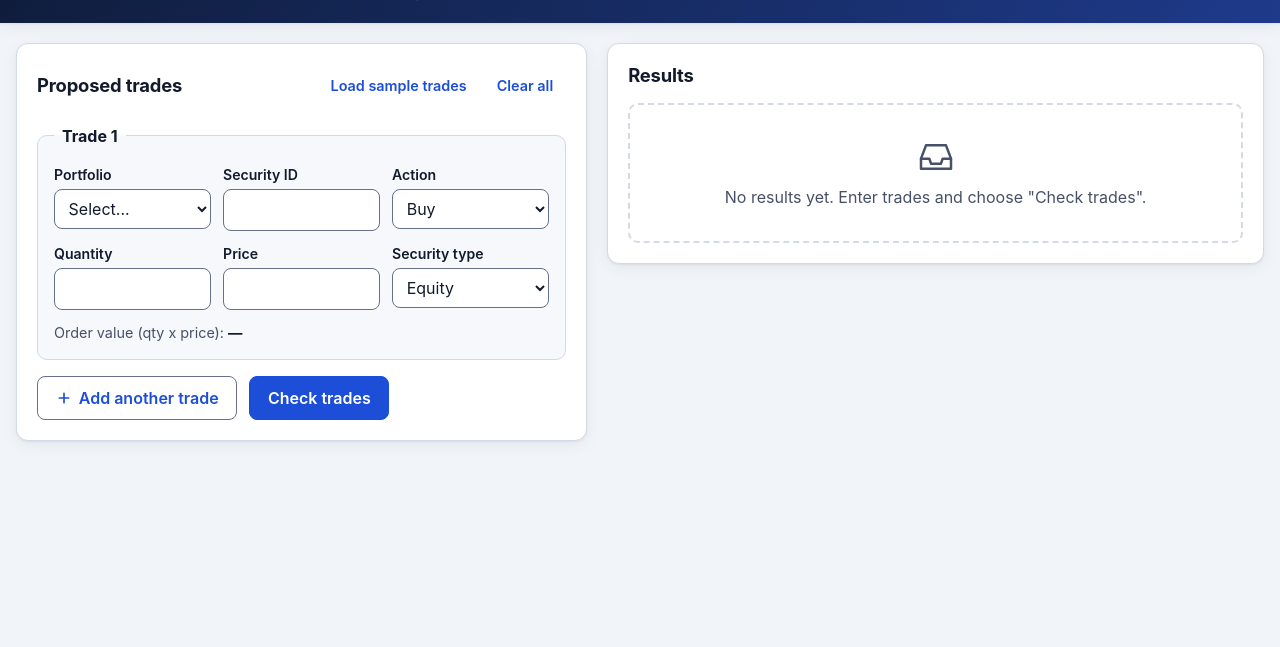
Test: summary tiles and filter chips › filterChip_showsOnlyMatchingDecision_keepingOriginalNumbers
The image size is (1280, 647).
Click the button "Load sample trades".
click(399, 86)  # box [318,64,480,108]
(page scrolled)
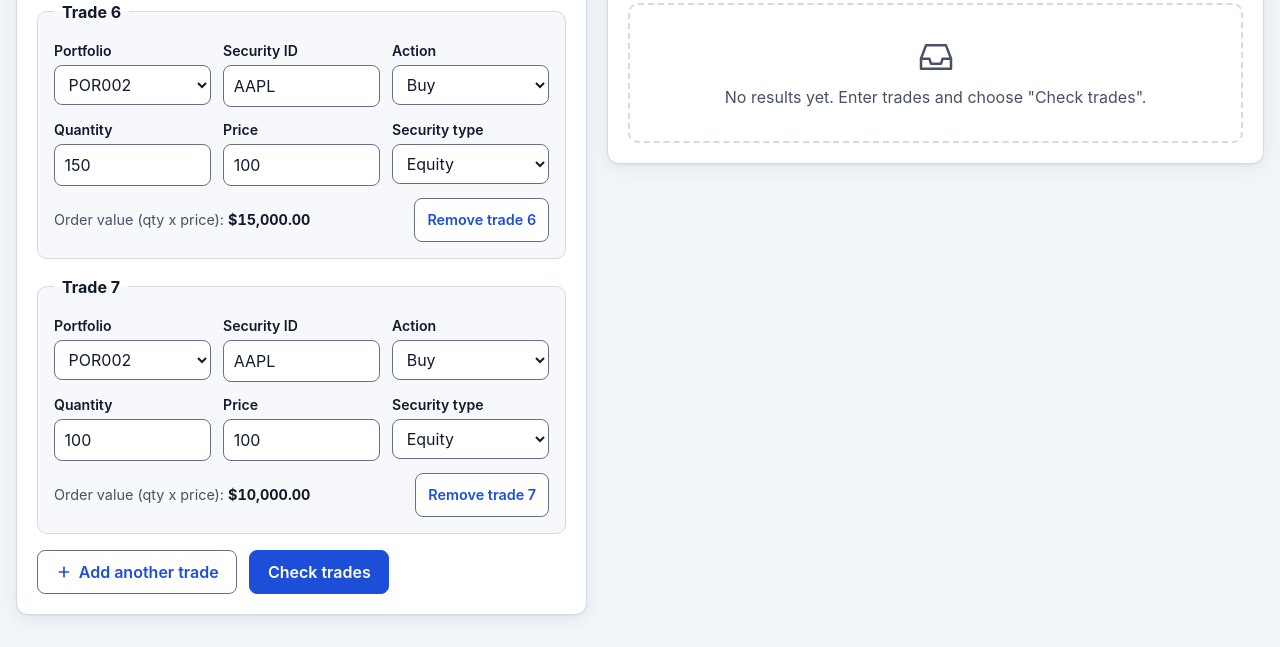
Click the button "Check trades".
click(319, 572)  # box [249,550,389,594]
(page scrolled)
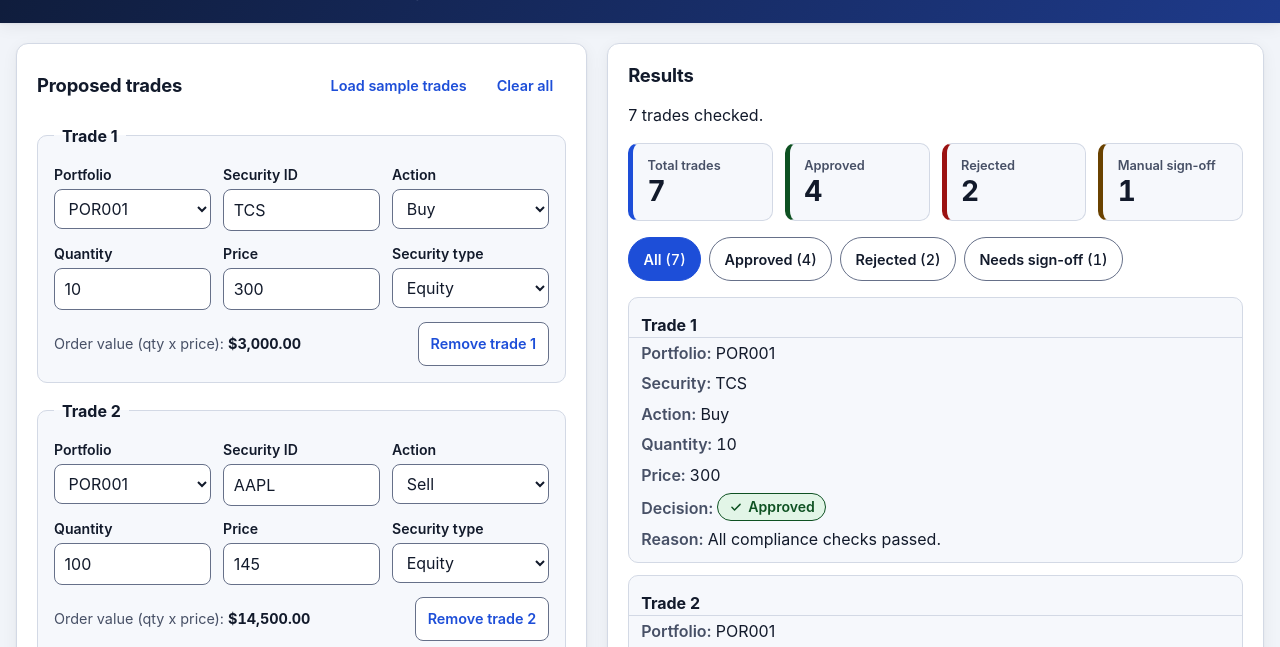
Click the button "Rejected (2)".
click(898, 259)  # box [840,237,956,281]
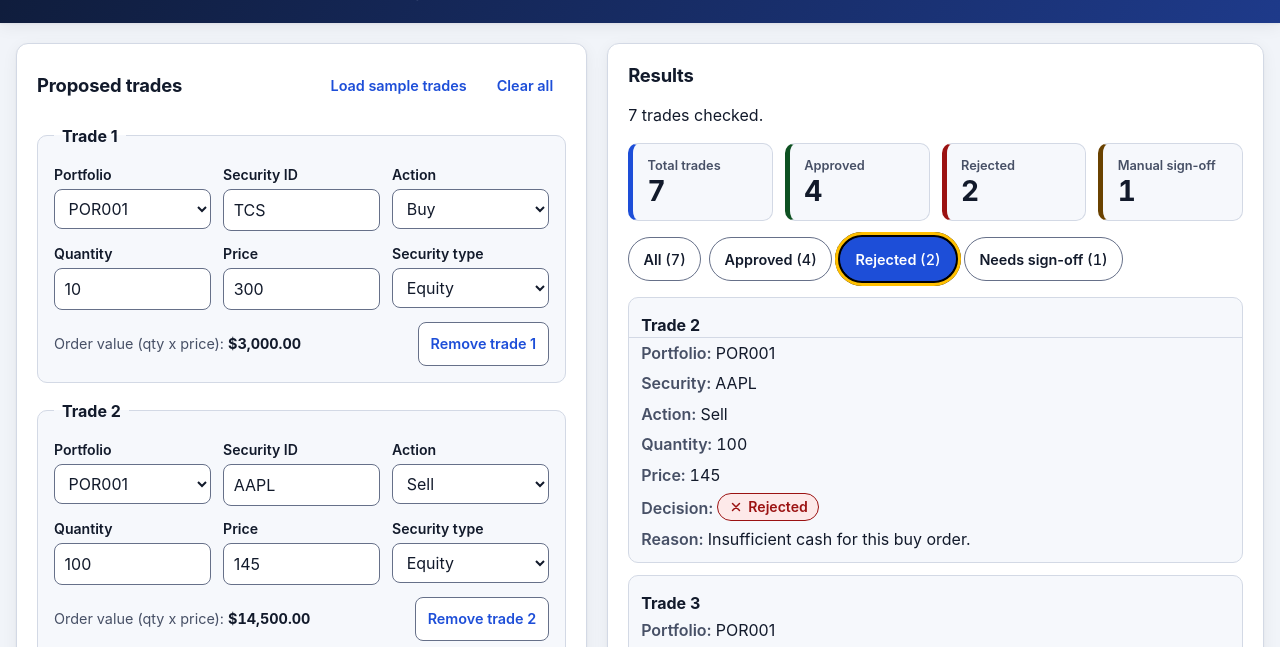
Expected: the column heading "2" is shown, [629,302,1242,338]
Expected: the column heading "3" is shown, [629,580,1242,615]
Click the button "All (7)".
click(665, 259)  # box [628,237,701,281]
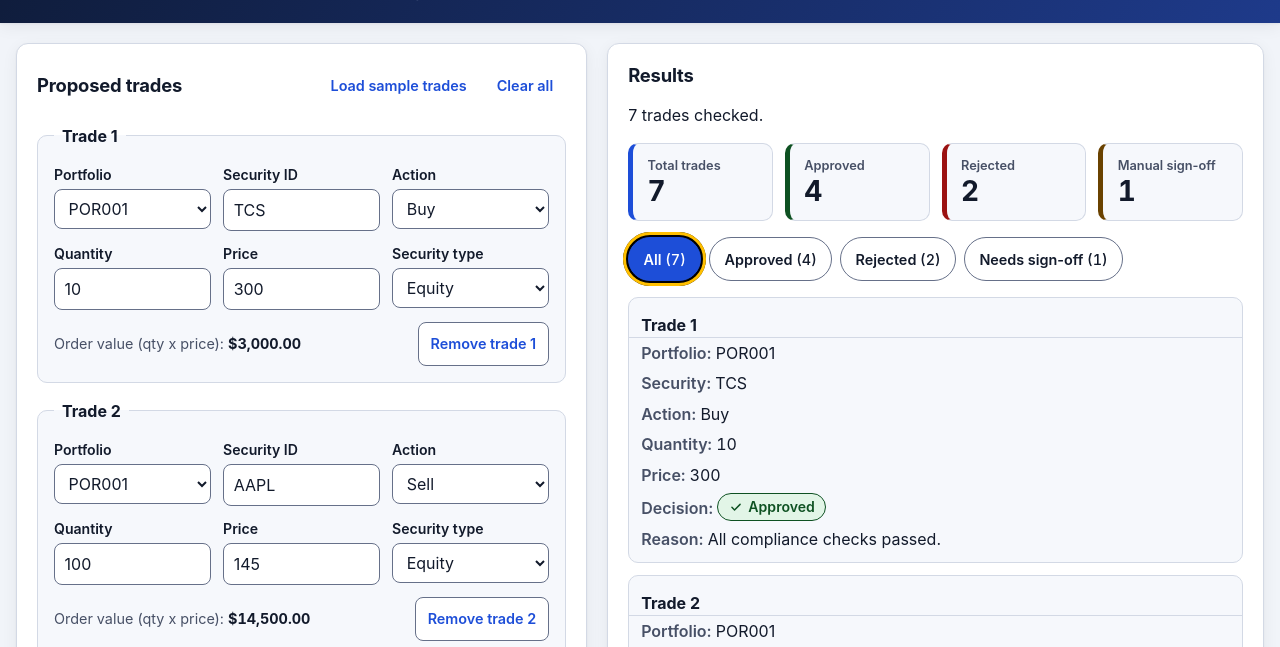
Expected: the number of rows is 8
